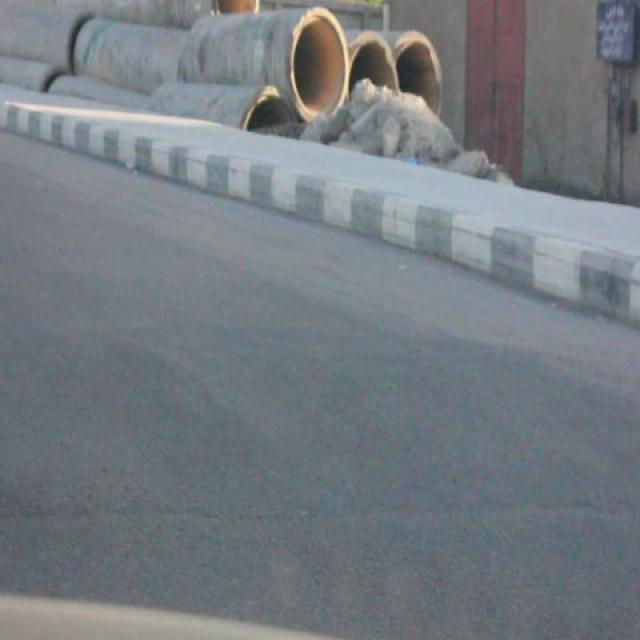Unmarked Bump: (0, 312, 640, 527)
